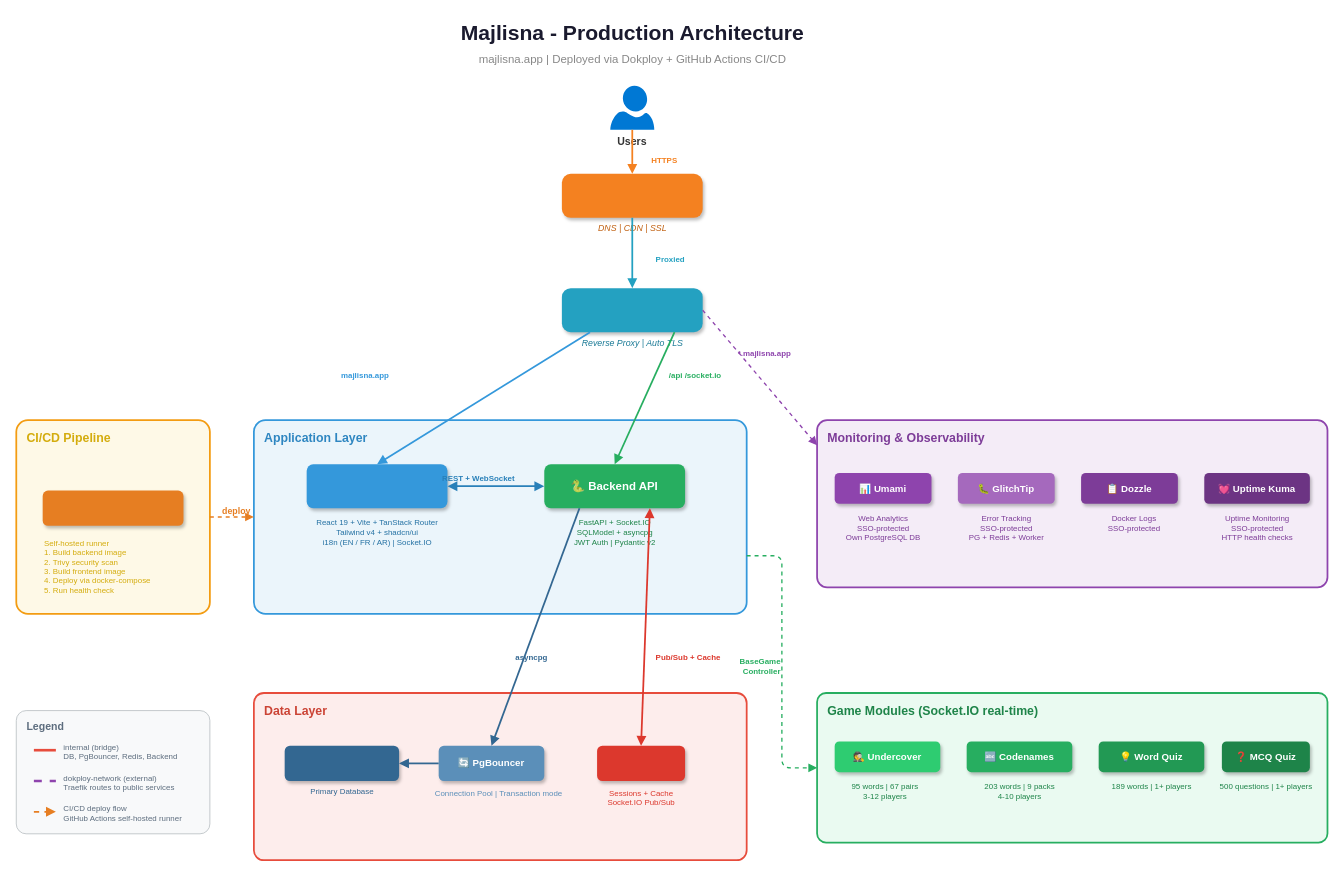
The diagram is 1343 pixels wide and 876 high, and some of its shapes have lost their labels. Here are the shapes that lost their labels. From the top down, the centre of each, then its label:
At (x=633, y=197): "☁️ Cloudflare".
At (x=633, y=311): "🔀 Traefik".
At (x=377, y=487): "⚛️ Frontend".
At (x=113, y=509): "⚙️ GitHub Actions".
At (x=342, y=764): "🐘 PostgreSQL 16".
At (x=641, y=764): "🔴 Redis 7".
